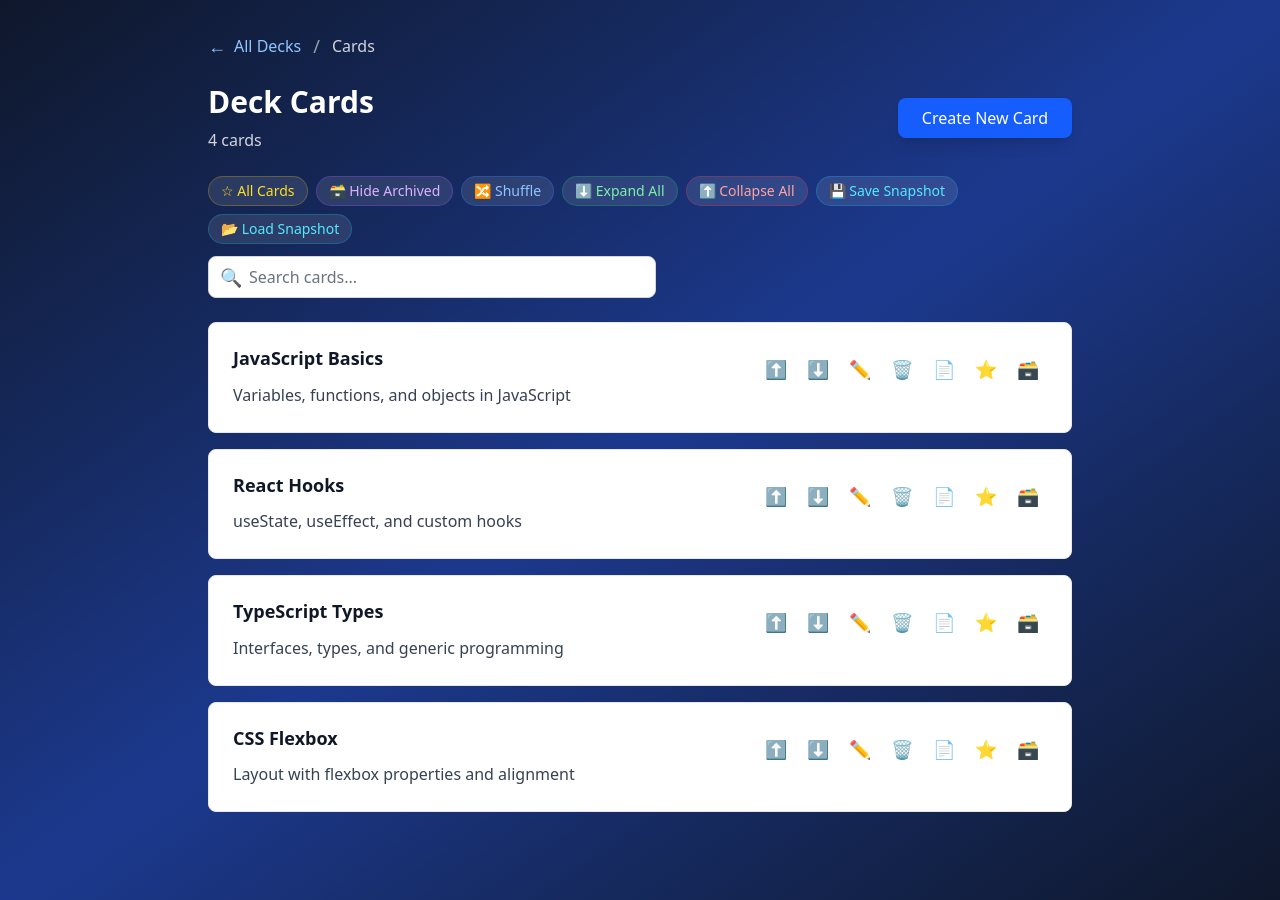
Test: CardScreen Component › Advanced Card Filtering › should clear search when clear button is clicked
The width and height of the screenshot is (1280, 900).
Type "React" into the field with placeholder "Search cards..." at (432, 277), box 208,256 -> 656,298
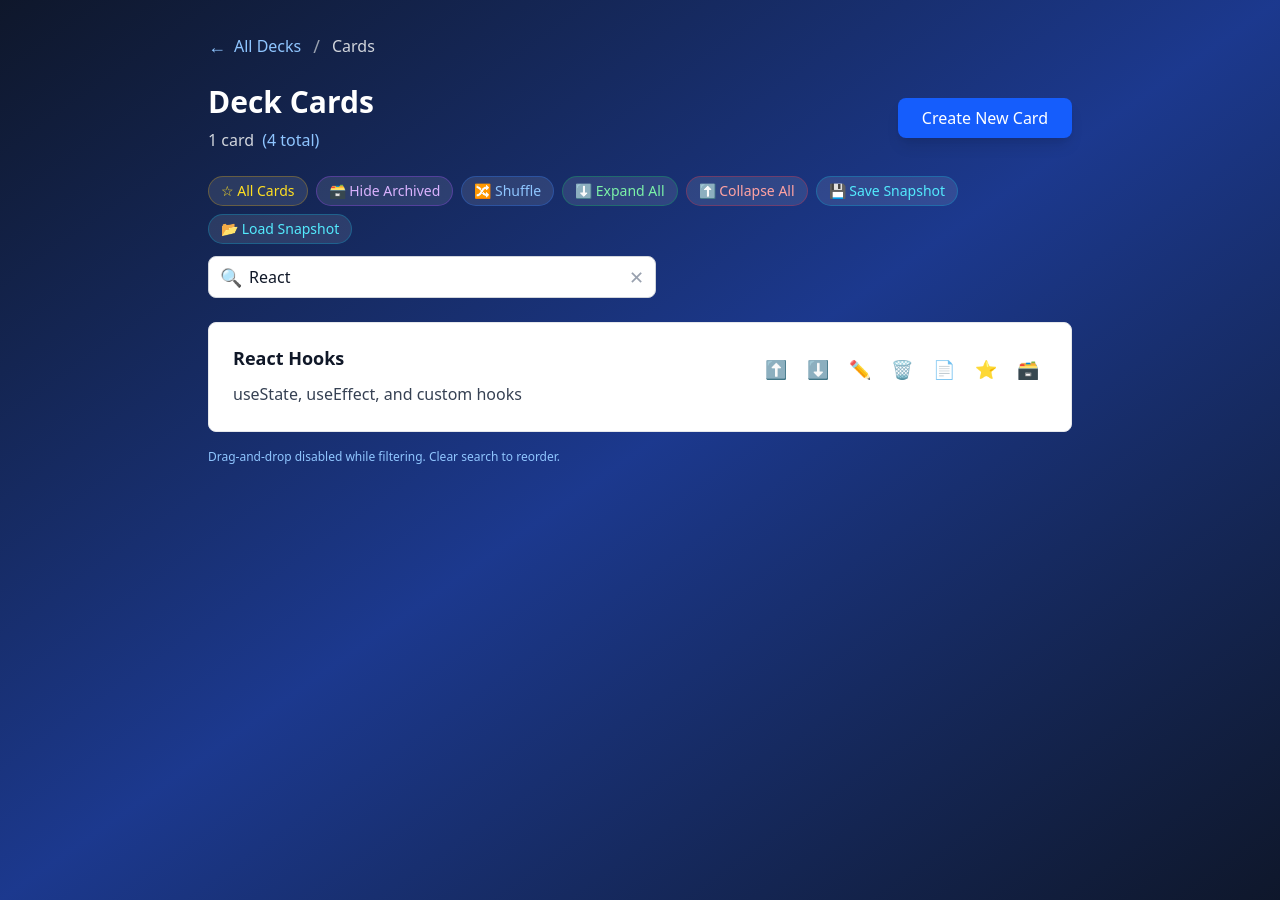
Click the button named "clear search" at (642, 277), box 629,256 -> 656,298
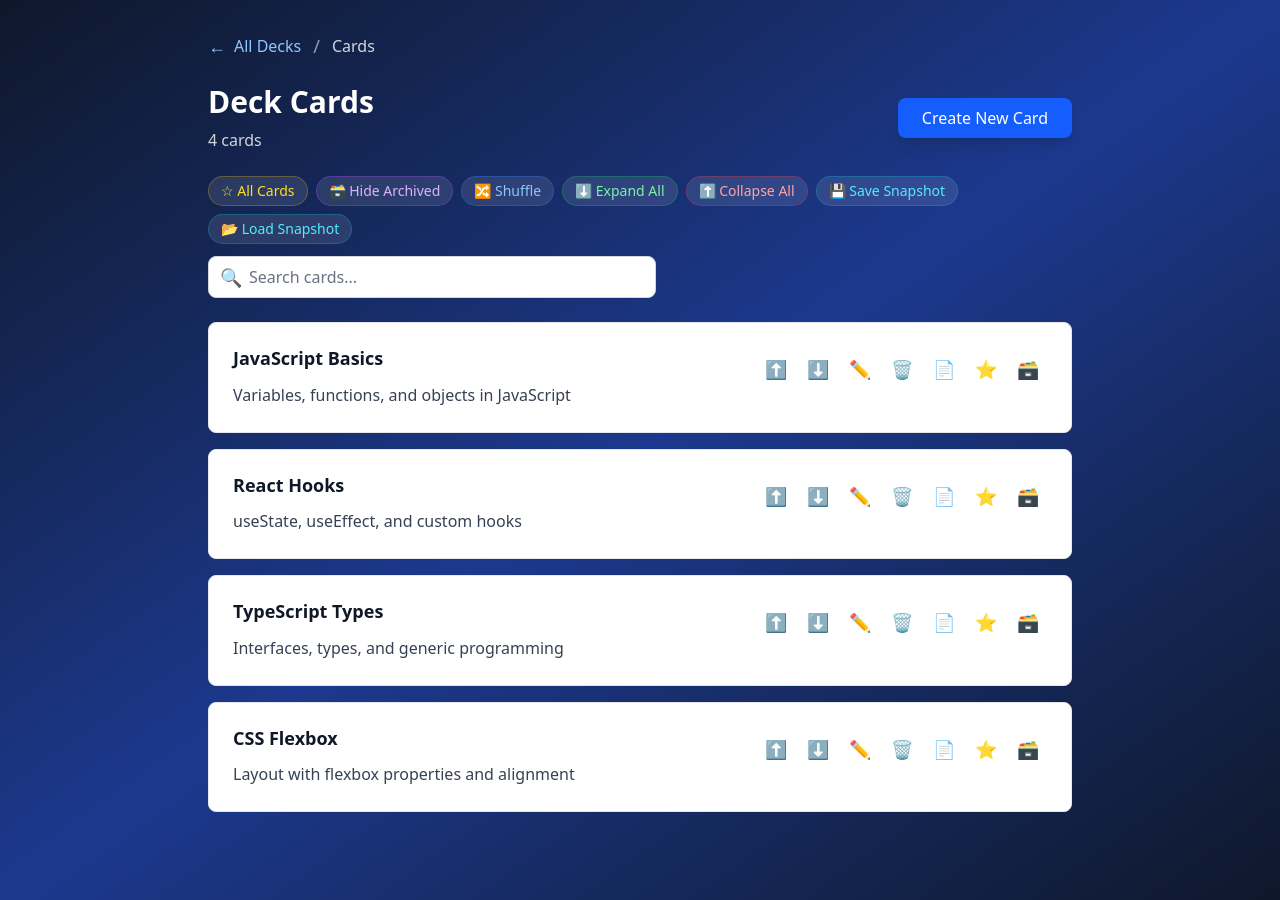
Expected: the field with placeholder "Search cards..." is empty, 208,256 -> 656,298
Expected: the text "4 cards" is shown, 208,129 -> 262,151
